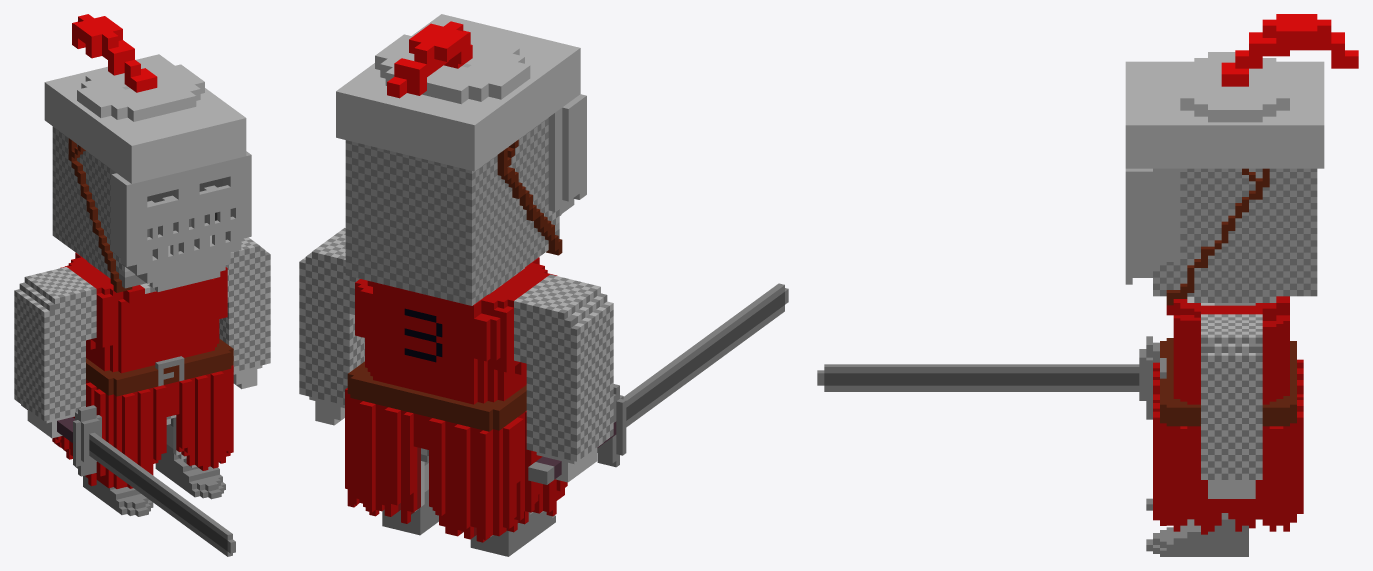
File: Player002_Level003.obj
3 views of the same model, side by side, from view 1: azimuth 30°, elevation 25°; view 2: azimuth 150°, elevation 25°; view 3: azimuth 270°, elevation 25° (orthographic). The views are drawn at different scales.
Size of the model in its own units: 4.4 by 8 by 7.9.
Materials: 1 (1 with a texture image).
